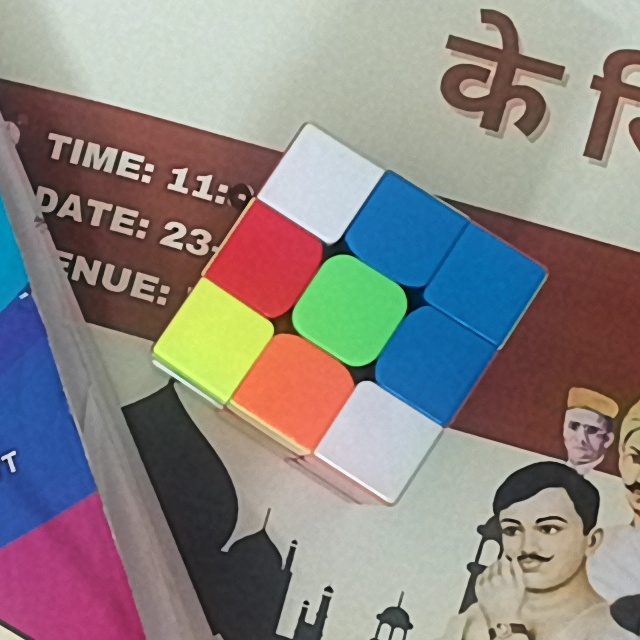tile: (284, 155, 356, 219), (368, 202, 439, 263), (312, 285, 383, 346), (453, 250, 520, 313), (260, 362, 331, 421), (397, 335, 469, 392), (344, 409, 412, 469), (236, 234, 303, 291), (182, 311, 247, 368)
